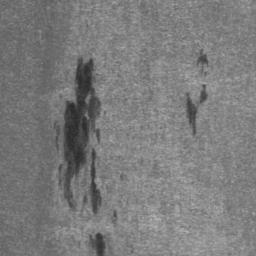Iron scale compression: (64, 58, 101, 212), (187, 84, 208, 138), (87, 233, 106, 253), (195, 49, 209, 66), (56, 124, 59, 154), (112, 211, 117, 221)
